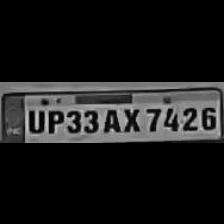2: (178, 103, 198, 131)
3: (80, 105, 100, 133), (64, 105, 80, 133)
4: (160, 103, 178, 131)
6: (198, 103, 216, 130)
7: (141, 103, 161, 132)
A: (100, 105, 120, 133)
P: (44, 105, 64, 133)
U: (24, 105, 44, 133)
X: (120, 104, 142, 132)
